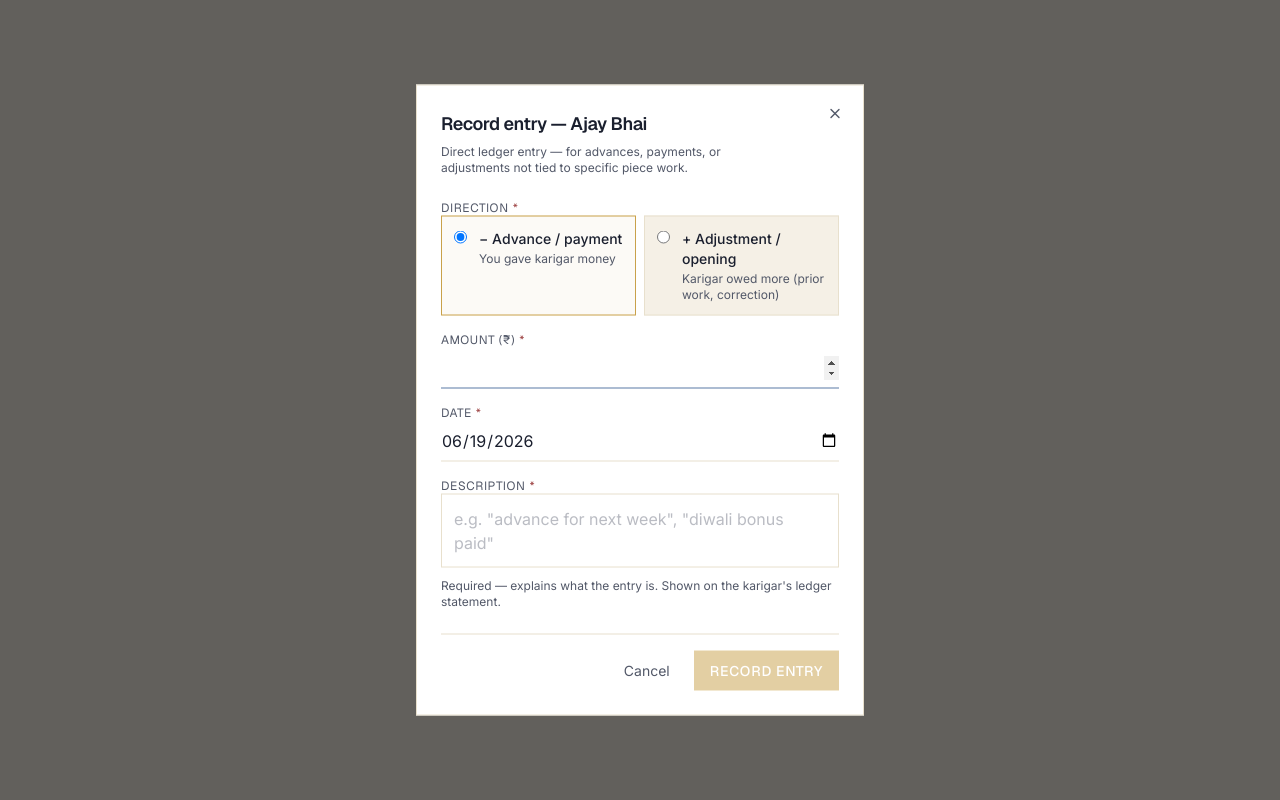
Test: KarigarLedgerEntryModal — create mode › surfaces field errors from the action
Type "1000" into the number field labelled "Amount (₹)*". click: (640, 368)
box: top-left (441, 348), bottom-right (839, 388)
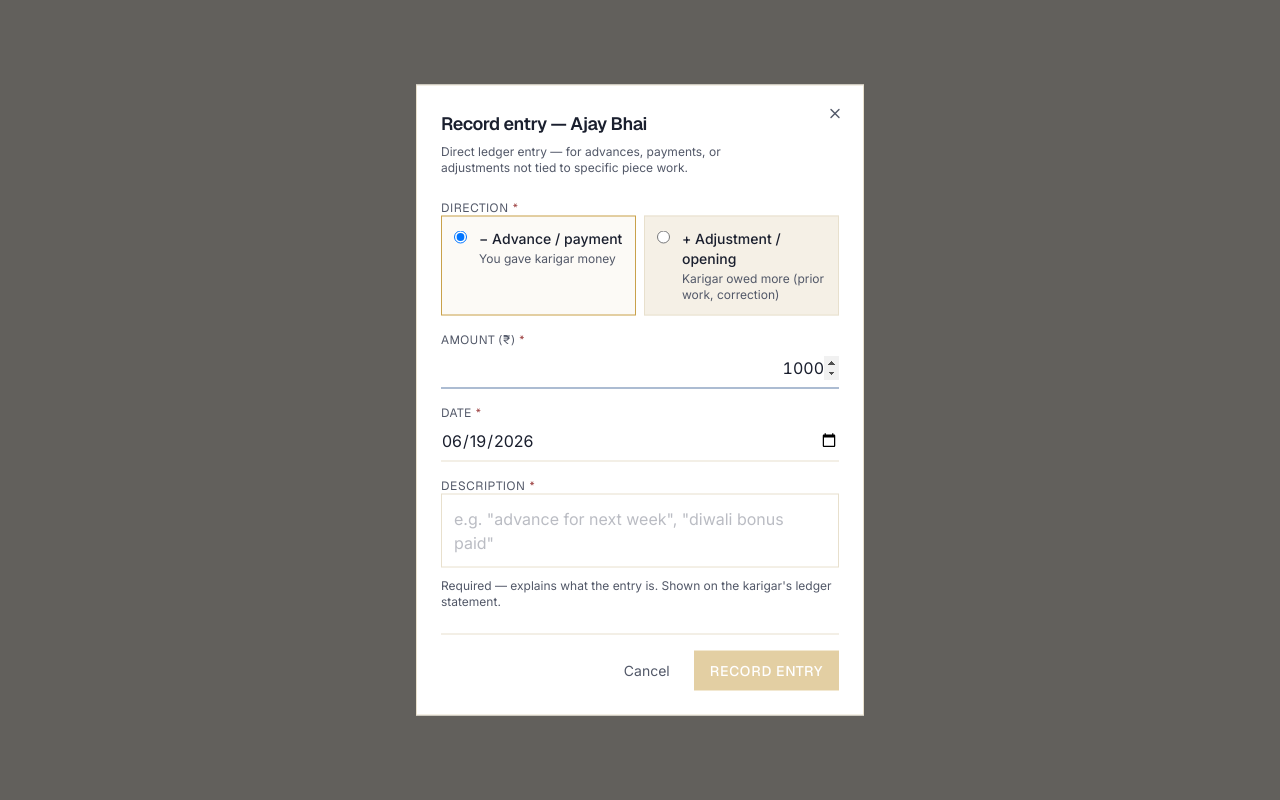
Type "x" into the text box labelled "Description*". click: (640, 530)
box: top-left (441, 494), bottom-right (839, 568)
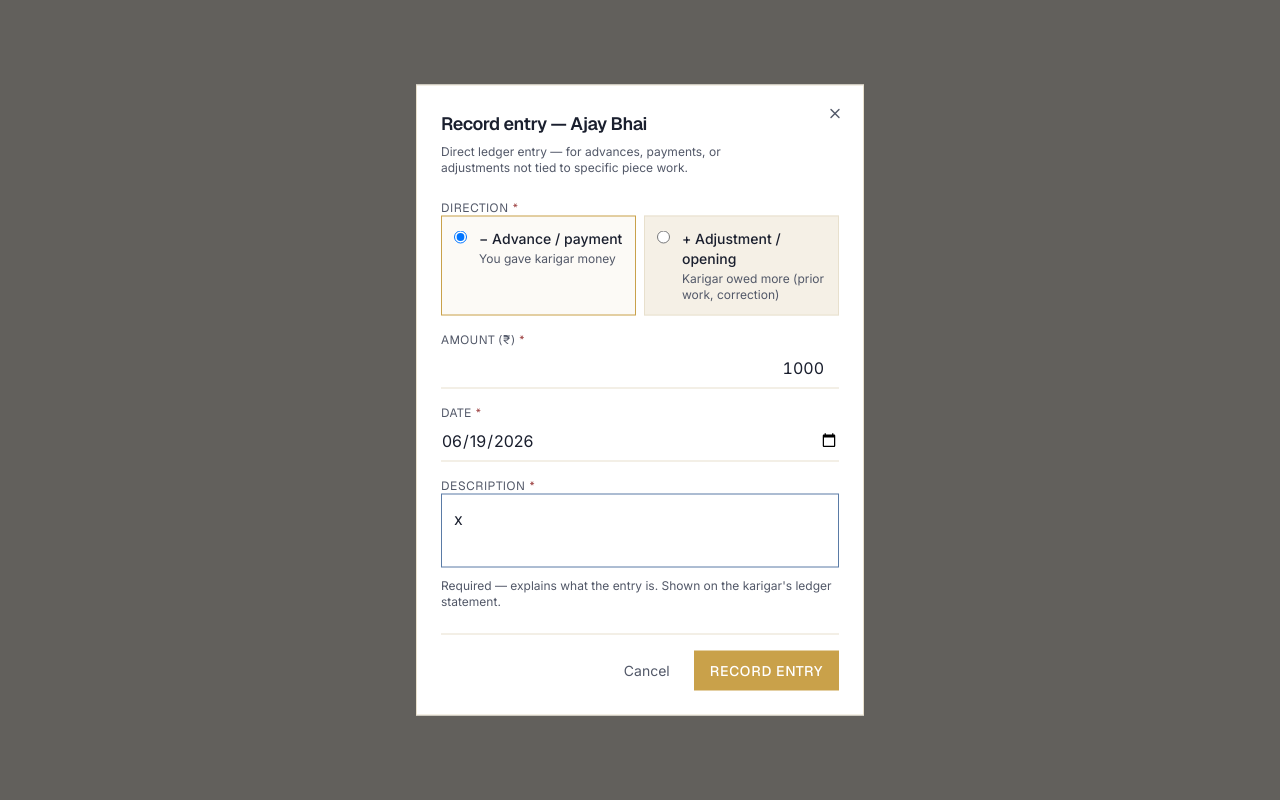
Click the button with test id "karigar-ledger-save". click: (766, 670)
box: top-left (694, 650), bottom-right (839, 690)
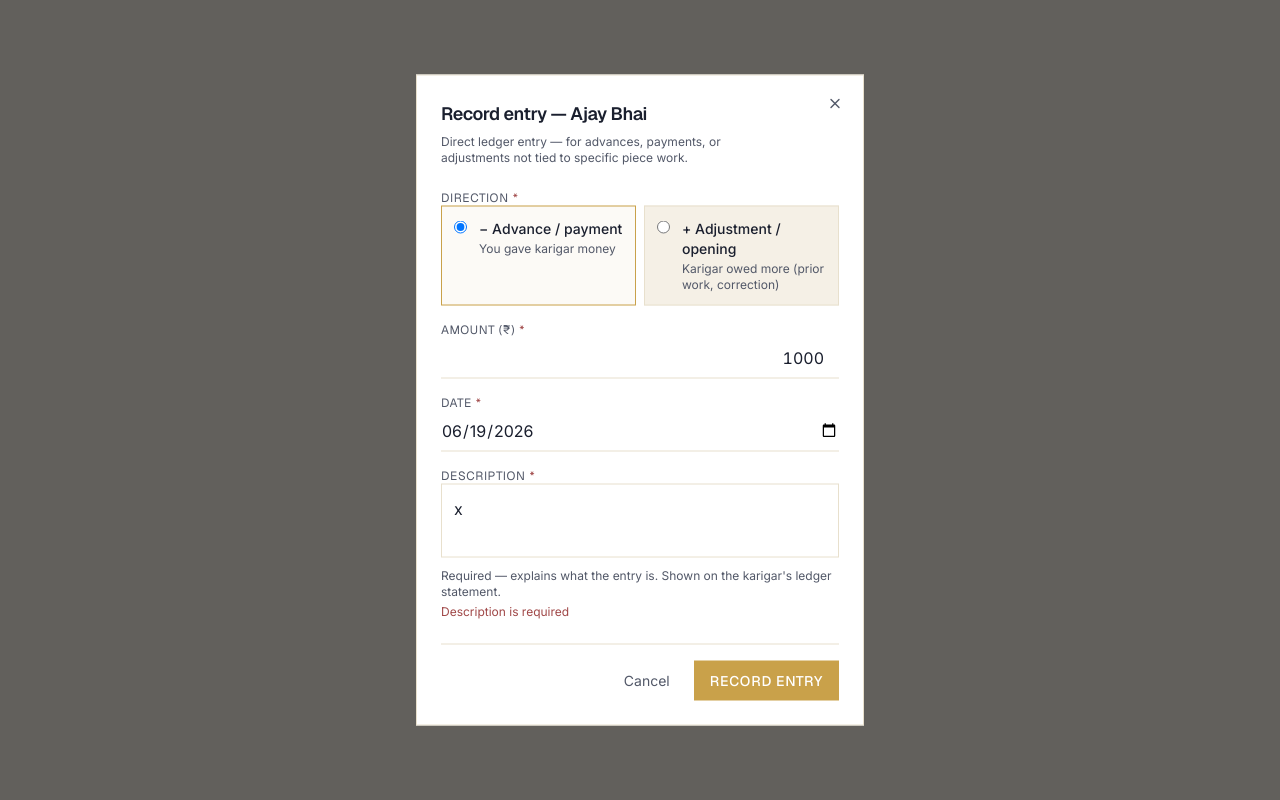
Now the text "Description is required" is shown, box top-left (441, 604), bottom-right (569, 618)
